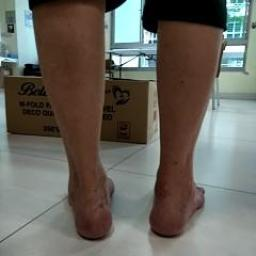Back View -Both Feet-: (54, 146, 212, 249)
